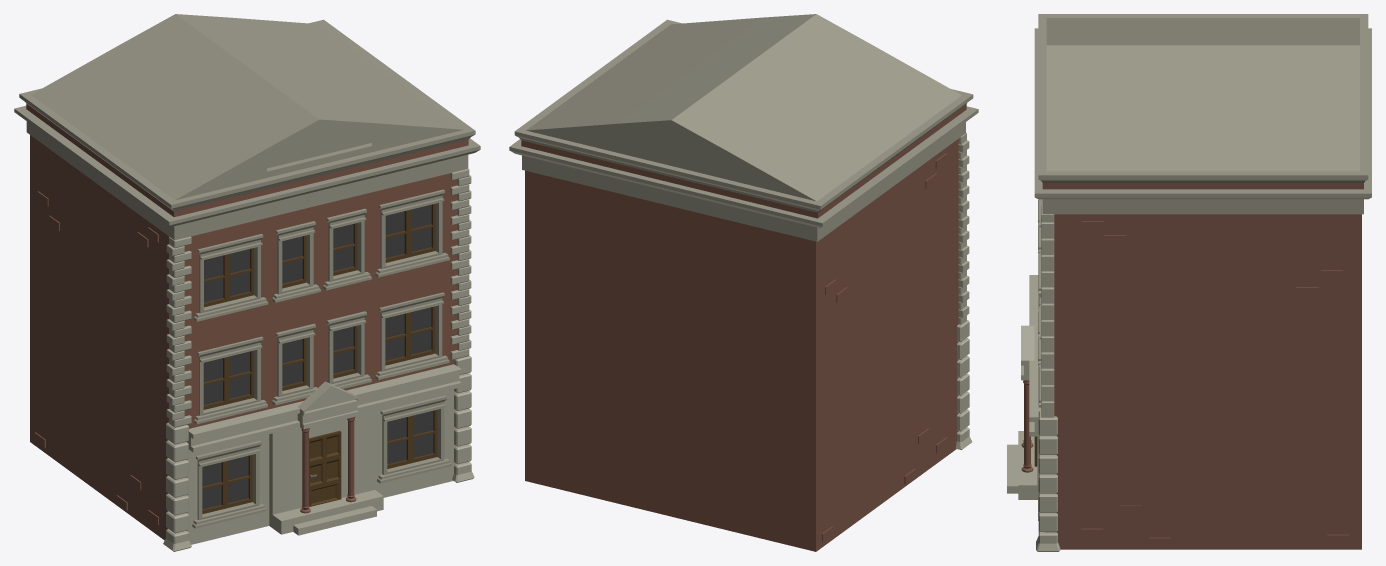
The model's file is Building3_Big.glb.
3 views of the same model, side by side, from view 1: azimuth 30°, elevation 25°; view 2: azimuth 150°, elevation 25°; view 3: azimuth 270°, elevation 25° (orthographic). The views are drawn at different scales.
Visible parts, largest first — view 1: Building3_Big; view 2: Building3_Big; view 3: Building3_Big.
Boxes of the visible parts, left/top/right/bottom form: Building3_Big: left=14, top=14, right=480, bottom=551; Building3_Big: left=509, top=14, right=978, bottom=551; Building3_Big: left=1007, top=14, right=1371, bottom=551.
Bounding box in the file's own units: 4.71 × 5.68 × 4.39.
